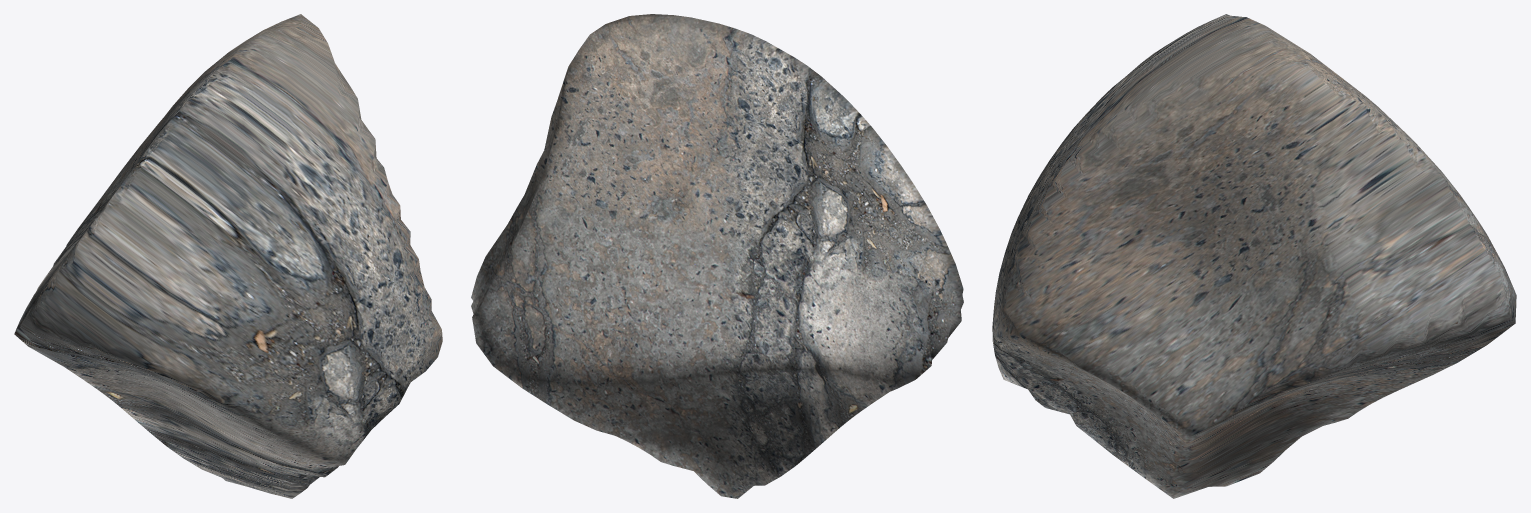
The model's file is RockA.fbx.
3 renders of one model, left to right at view 1: azimuth 30°, elevation 25°; view 2: azimuth 150°, elevation 25°; view 3: azimuth 270°, elevation 25°, orthographic. The views are drawn at different scales.
Visible parts, largest first — view 1: Rock; view 2: Rock; view 3: Rock.
Part boxes in pixels (box(x1,y1,x2,y2)): Rock: box(14, 14, 442, 498); Rock: box(471, 14, 963, 498); Rock: box(992, 14, 1516, 498).
Bounding box in the file's own units: 0.8498 × 0.9396 × 0.939.
